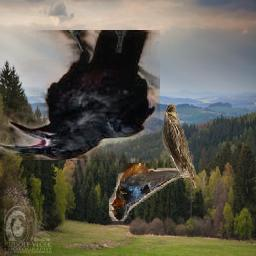Crow: (0, 30, 160, 160)
Sparrow: (161, 104, 197, 189)
Swallow: (110, 163, 195, 221)
